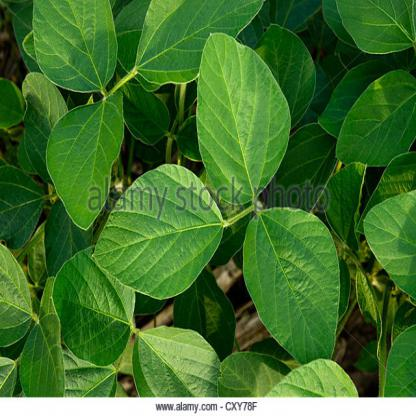soybean leaf: (91, 161, 226, 301), (241, 206, 341, 386), (197, 31, 293, 210)
